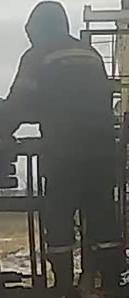vest: (13, 44, 118, 195)
